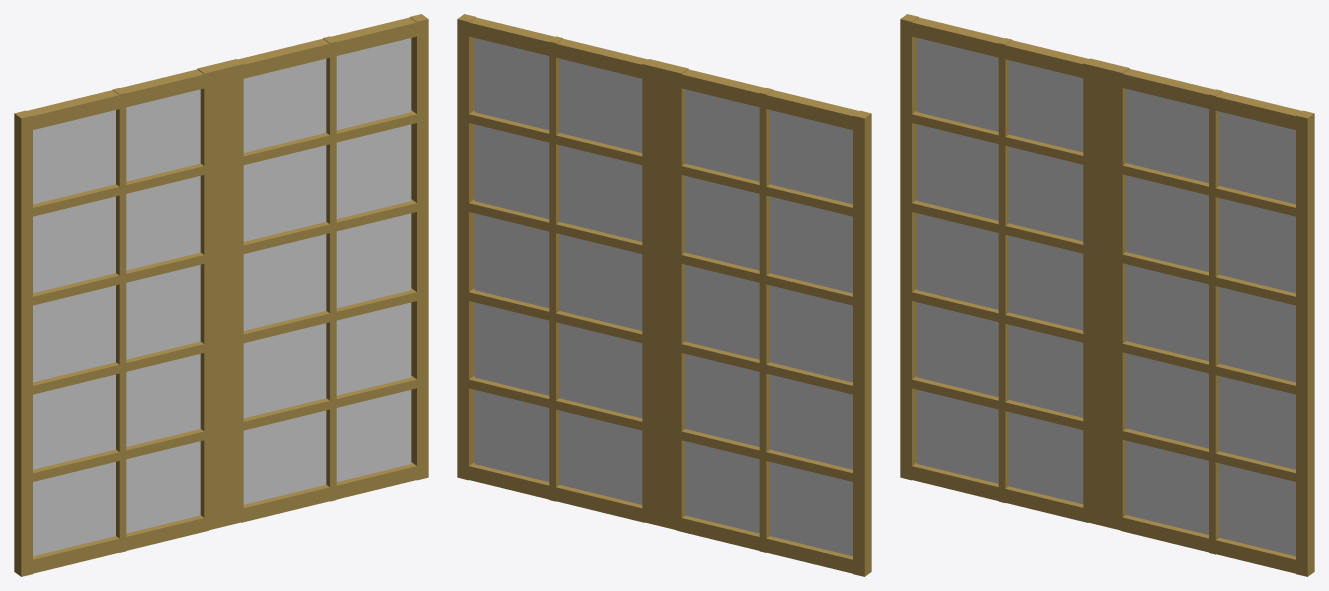
3 renders of one model, left to right at view 1: azimuth 30°, elevation 25°; view 2: azimuth 150°, elevation 25°; view 3: azimuth 330°, elevation 25°, orthographic.
Parts seen in each view (by area): view 1: Plane, Box, Box9, Box1, Box16, Box8, Box7, Box15, Box2, Box10, Box3, Box5 (+6 smaller); view 2: Plane, Box, Box9, Box1, Box16, Box8, Box7, Box15, Box2, Box10, Box5, Box3 (+6 smaller); view 3: Plane, Box, Box1, Box9, Box16, Box8, Box7, Box15, Box2, Box10, Box5, Box4 (+6 smaller).
Boxes of the visible parts, x1=… form: Plane: x1=33, y1=38, x2=411, y2=556; Box: x1=197, y1=59, x2=243, y2=530; Box9: x1=14, y1=110, x2=32, y2=576; Box1: x1=410, y1=14, x2=428, y2=480; Box16: x1=112, y1=88, x2=126, y2=552; Box8: x1=323, y1=36, x2=336, y2=501; Box7: x1=238, y1=17, x2=419, y2=78; Box15: x1=27, y1=69, x2=206, y2=129; Box2: x1=241, y1=462, x2=419, y2=522; Box10: x1=31, y1=515, x2=209, y2=573; Box3: x1=241, y1=375, x2=419, y2=430; Box5: x1=241, y1=199, x2=419, y2=254; Plane: x1=474, y1=38, x2=852, y2=556; Box: x1=642, y1=59, x2=688, y2=530; Box9: x1=853, y1=110, x2=871, y2=576; Box1: x1=457, y1=14, x2=475, y2=480; Box16: x1=759, y1=88, x2=773, y2=552; Box8: x1=549, y1=36, x2=562, y2=501; Box7: x1=466, y1=17, x2=647, y2=78; Box15: x1=681, y1=69, x2=858, y2=129; Box2: x1=466, y1=462, x2=644, y2=522; Box10: x1=676, y1=515, x2=854, y2=573; Box5: x1=466, y1=199, x2=644, y2=254; Box3: x1=466, y1=375, x2=644, y2=430; Plane: x1=917, y1=38, x2=1295, y2=556; Box: x1=1083, y1=58, x2=1129, y2=530; Box1: x1=1296, y1=110, x2=1314, y2=576; Box9: x1=900, y1=14, x2=918, y2=480; Box16: x1=998, y1=38, x2=1011, y2=502; Box8: x1=1209, y1=89, x2=1222, y2=554; Box7: x1=1120, y1=69, x2=1301, y2=130; Box15: x1=910, y1=17, x2=1088, y2=78; Box2: x1=1120, y1=515, x2=1295, y2=573; Box10: x1=910, y1=462, x2=1088, y2=522; Box5: x1=1120, y1=252, x2=1298, y2=306; Box4: x1=1121, y1=341, x2=1298, y2=395.
Bounding box in the file's own units: 2.29 × 2.47 × 0.0682.
